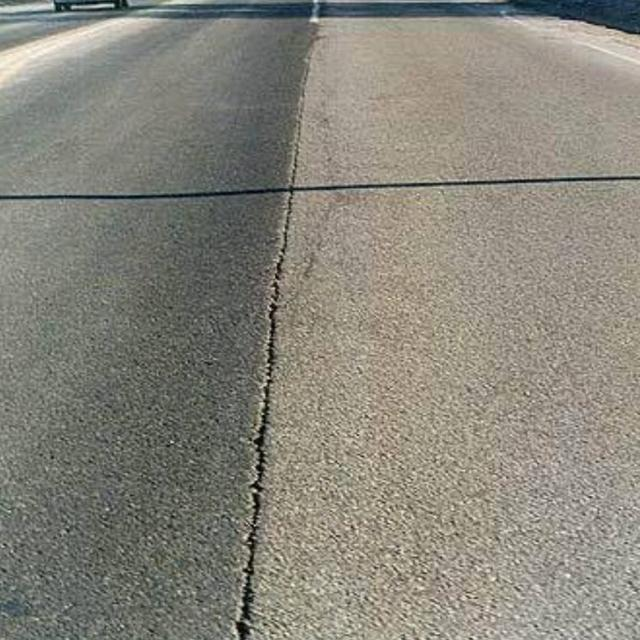Melintang: (4, 158, 640, 210)
Memanjang: (206, 0, 333, 640)
